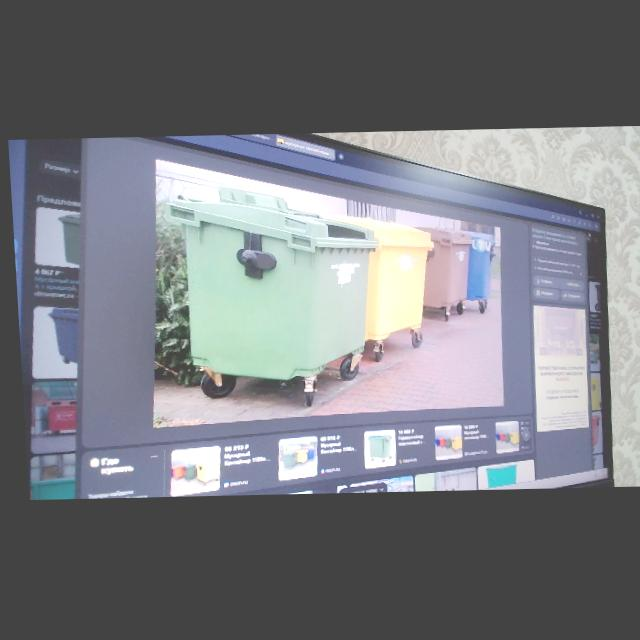Trash_Can_Closed: (316, 212, 436, 344), (406, 227, 473, 311), (458, 230, 494, 303)
Trash_Can_Empty: (162, 196, 381, 384)
